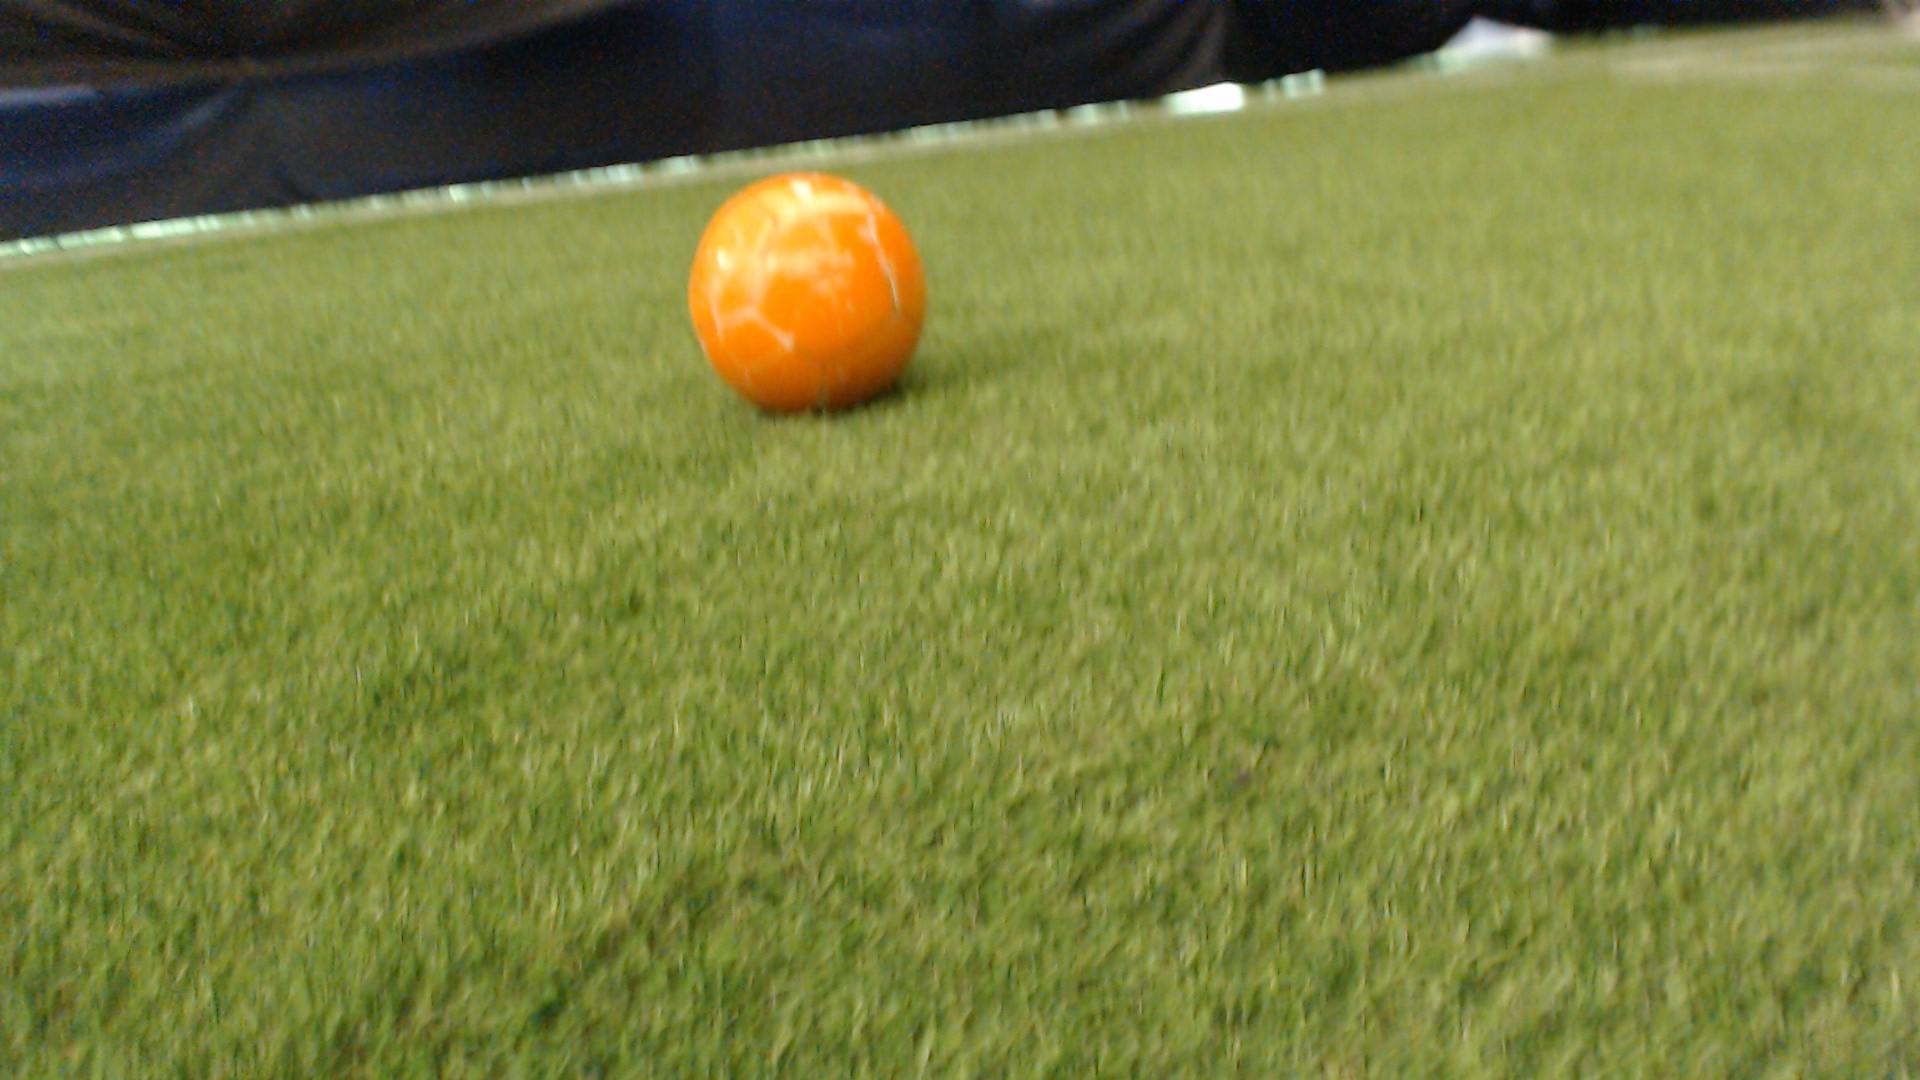bola: (665, 145, 972, 451)
